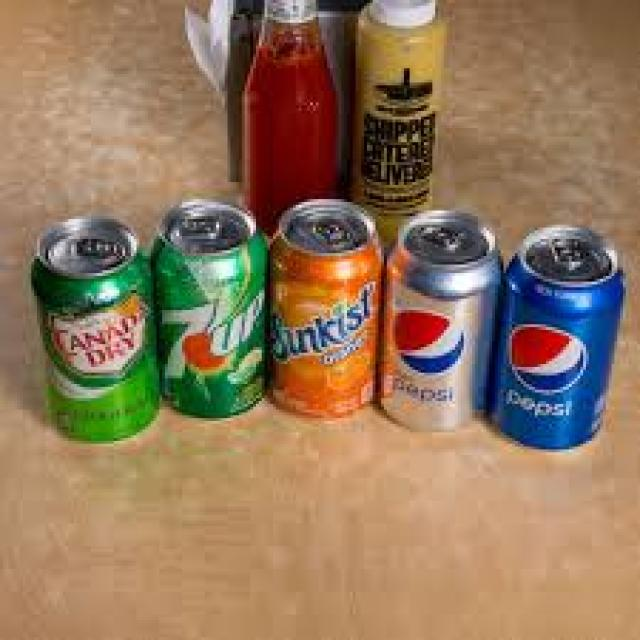Cans: (25, 208, 174, 447), (145, 196, 276, 424), (265, 191, 384, 418), (501, 222, 617, 452), (381, 208, 498, 426)
